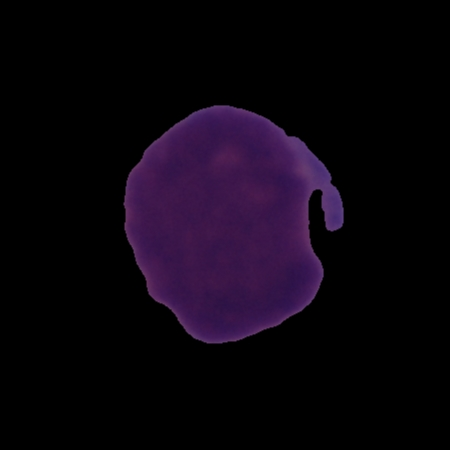ALL: (121, 101, 348, 347)
